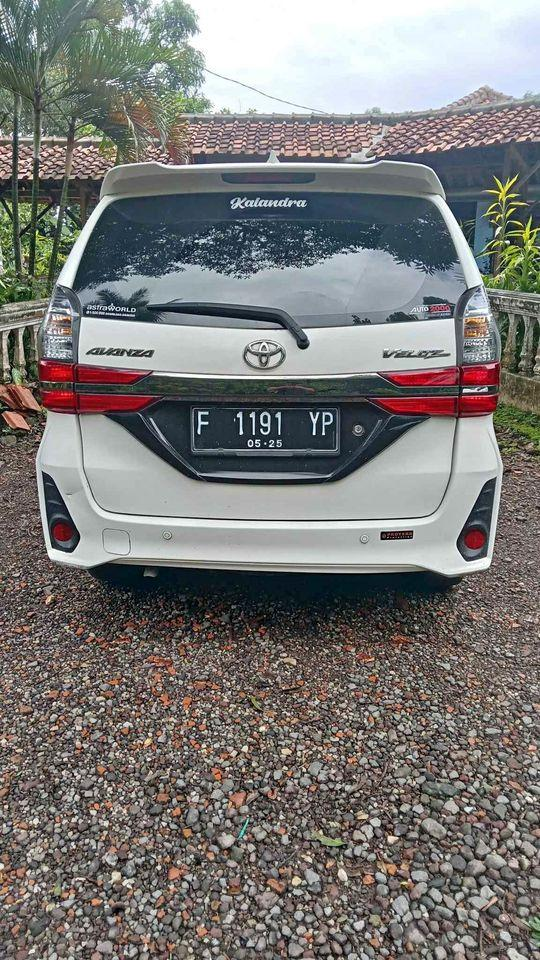plat nomor: (177, 394, 360, 479)
